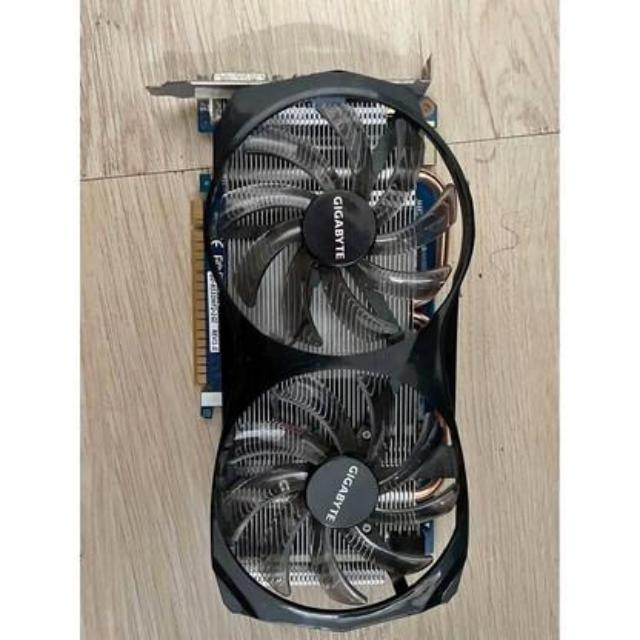GPU: (156, 64, 478, 628)
